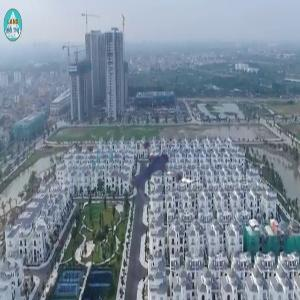drone: (111, 120, 203, 212)
